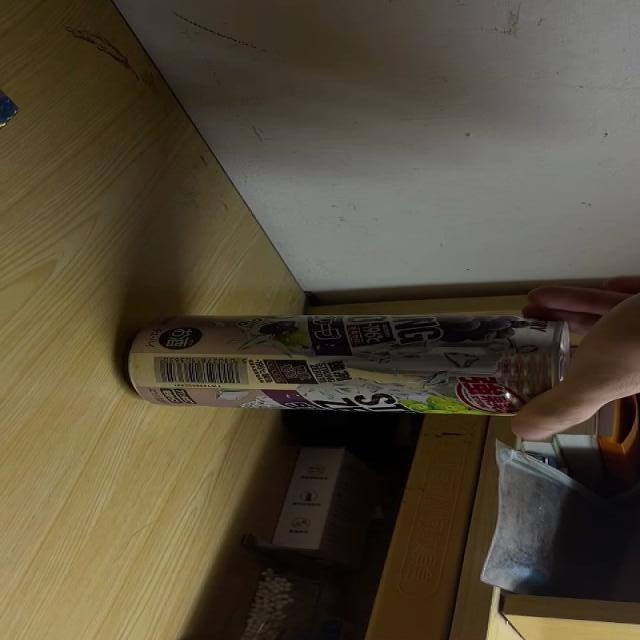Liquor: (119, 313, 579, 412)
